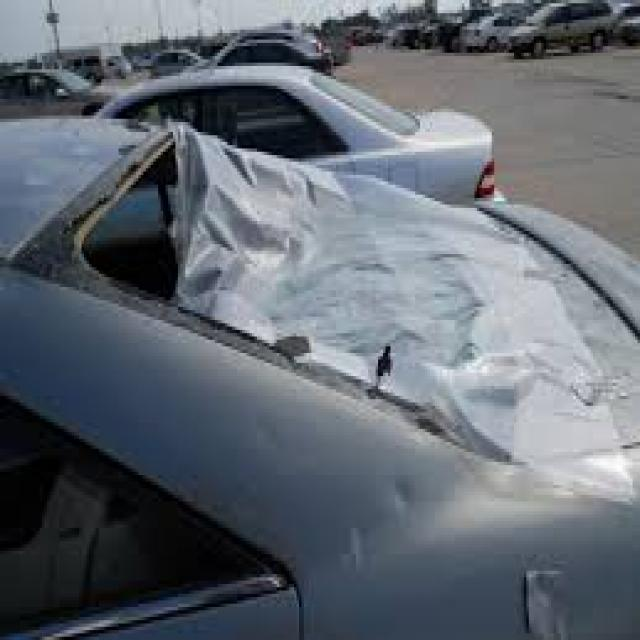minor: (70, 104, 640, 511)
